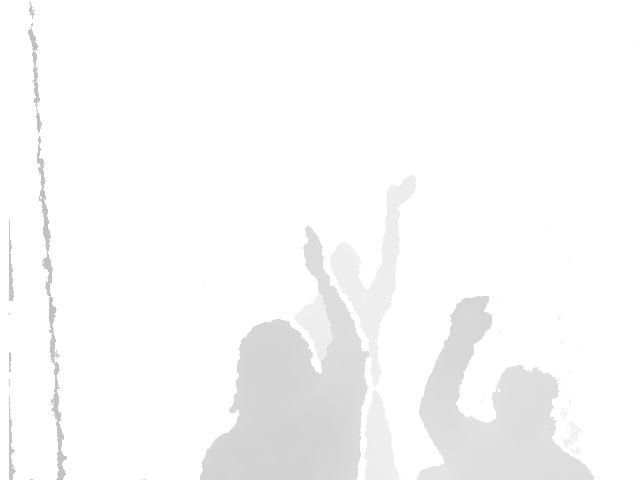hand: (442, 292, 495, 358), (382, 172, 419, 207), (302, 224, 324, 279)
head: (229, 316, 316, 440), (490, 361, 562, 452), (327, 239, 365, 294)
person: (205, 222, 367, 480), (418, 295, 584, 480), (332, 173, 419, 469)
